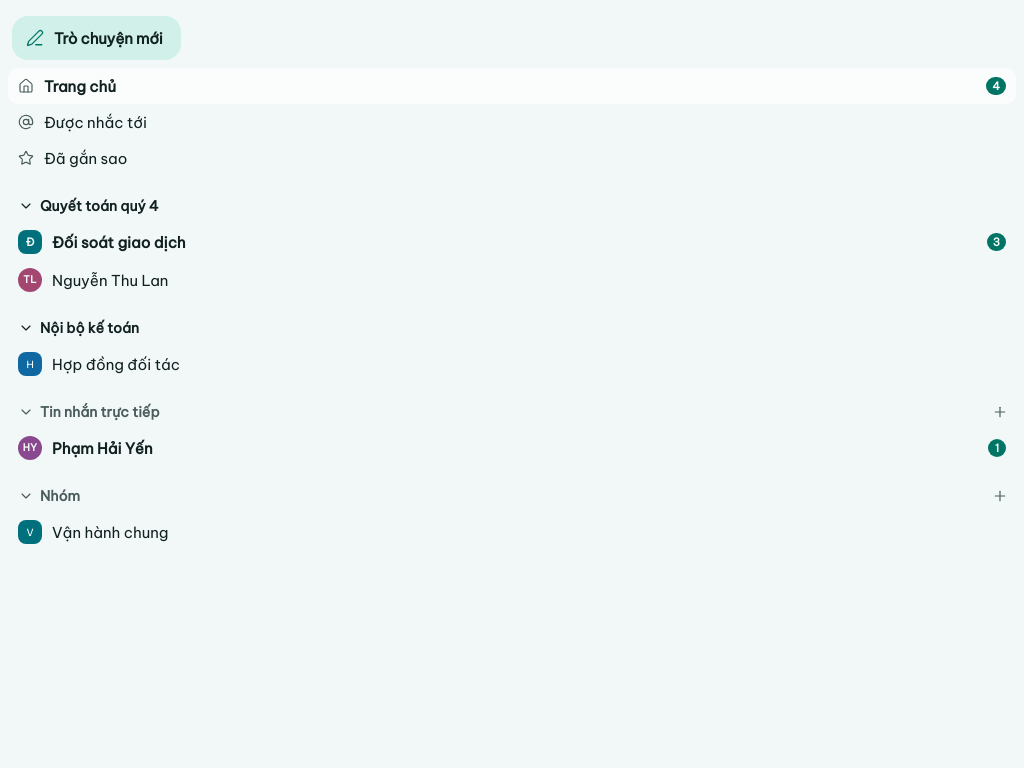
creating a section › closes on Huỷ and on Esc, giving focus back to the button that opened it
The width and height of the screenshot is (1024, 768).
Check: the list named "Quyết toán quý 4" is shown, box [8,224,1016,298]
Click the button "Trò chuyện mới": (96, 38) [12,16,181,60]
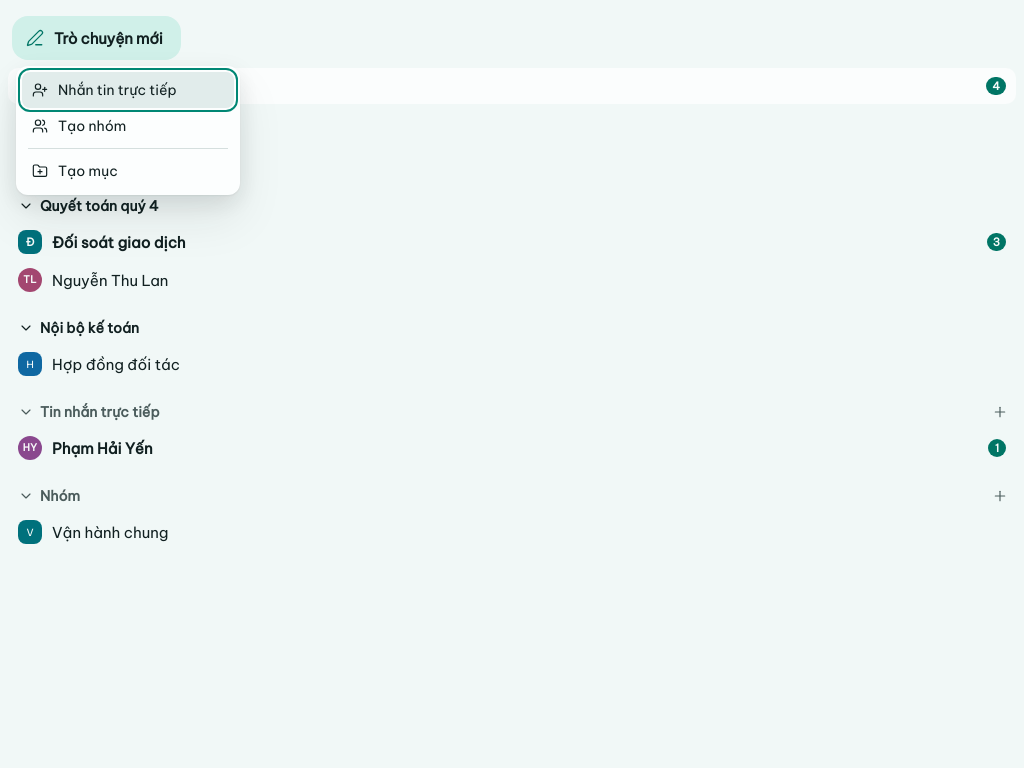
Click the menu item "Tạo mục": (128, 171) [22,153,234,189]
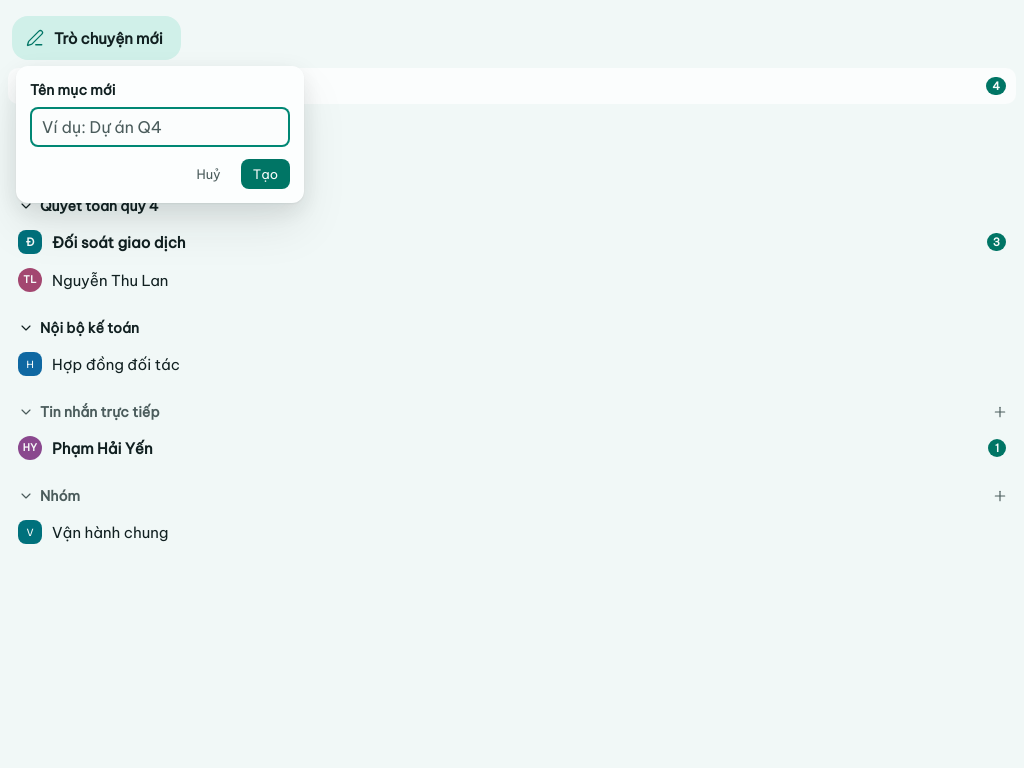
Click the button "Huỷ": (209, 174) [184,159,233,189]
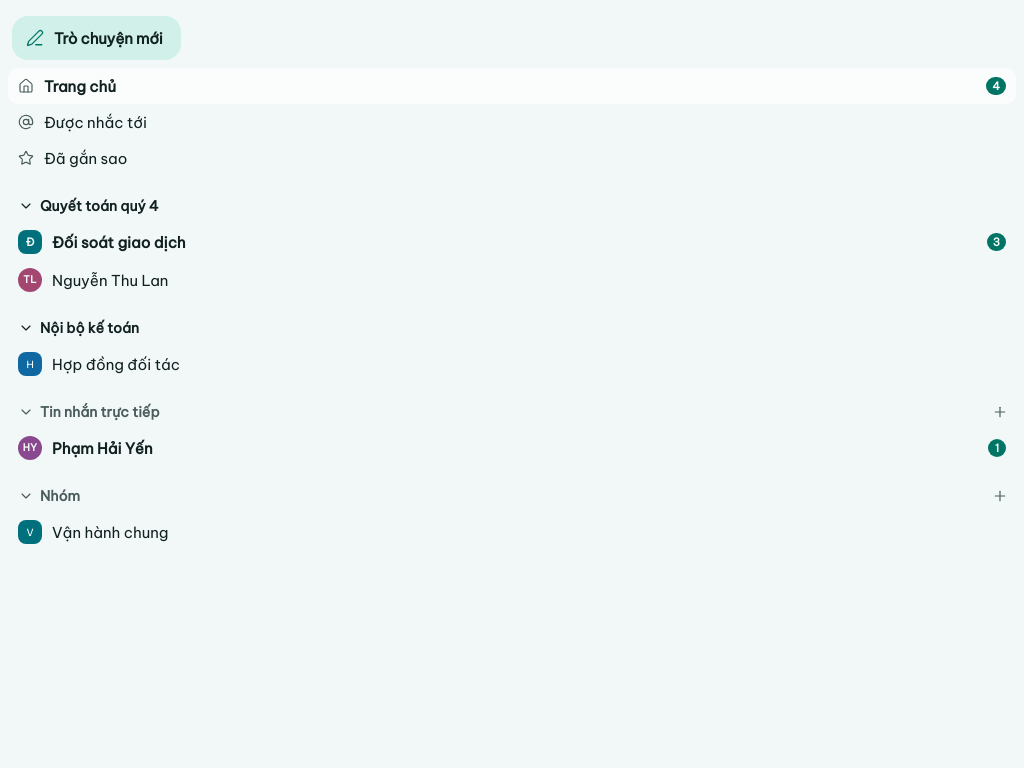
Check: the dialog is gone
Click the button "Trò chuyện mới": (96, 38) [12,16,181,60]
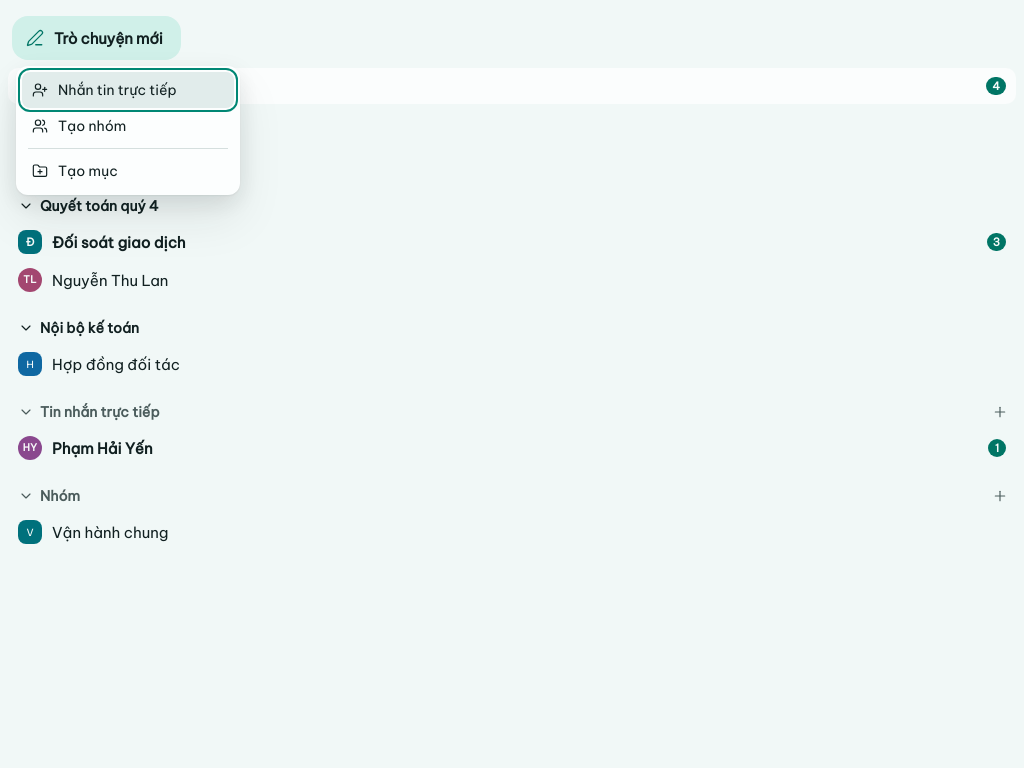
Click the menu item "Tạo mục": (128, 171) [22,153,234,189]
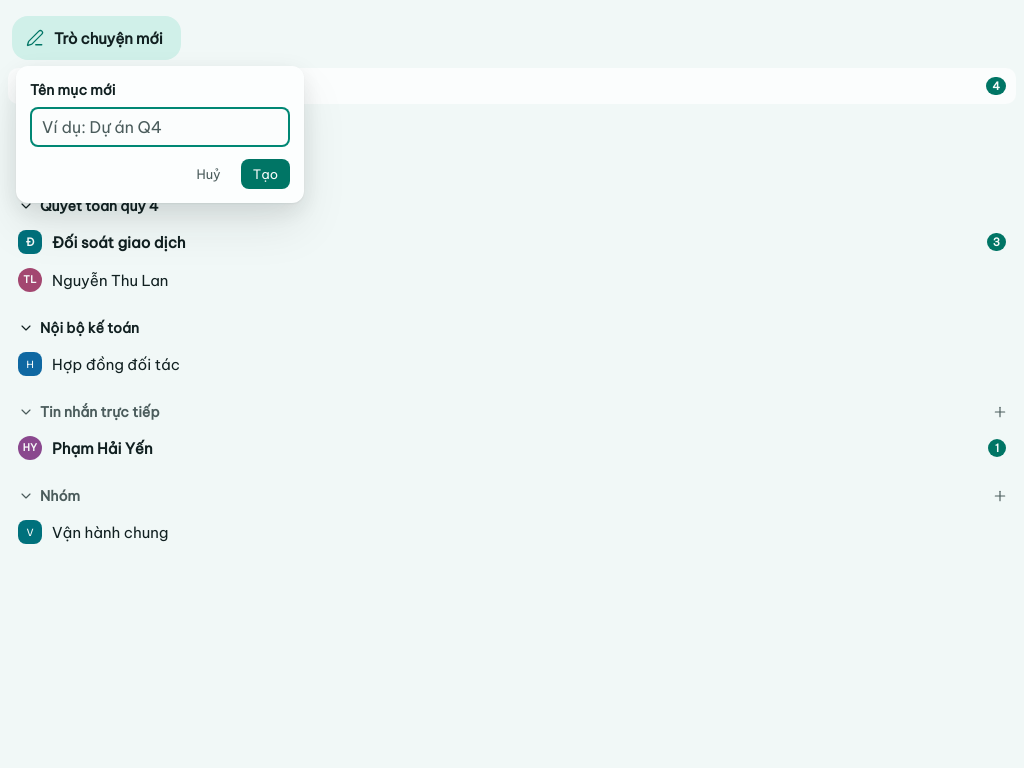
Check: the dialog "Tên mục mới" is shown, box [16,66,304,203]
Press Escape
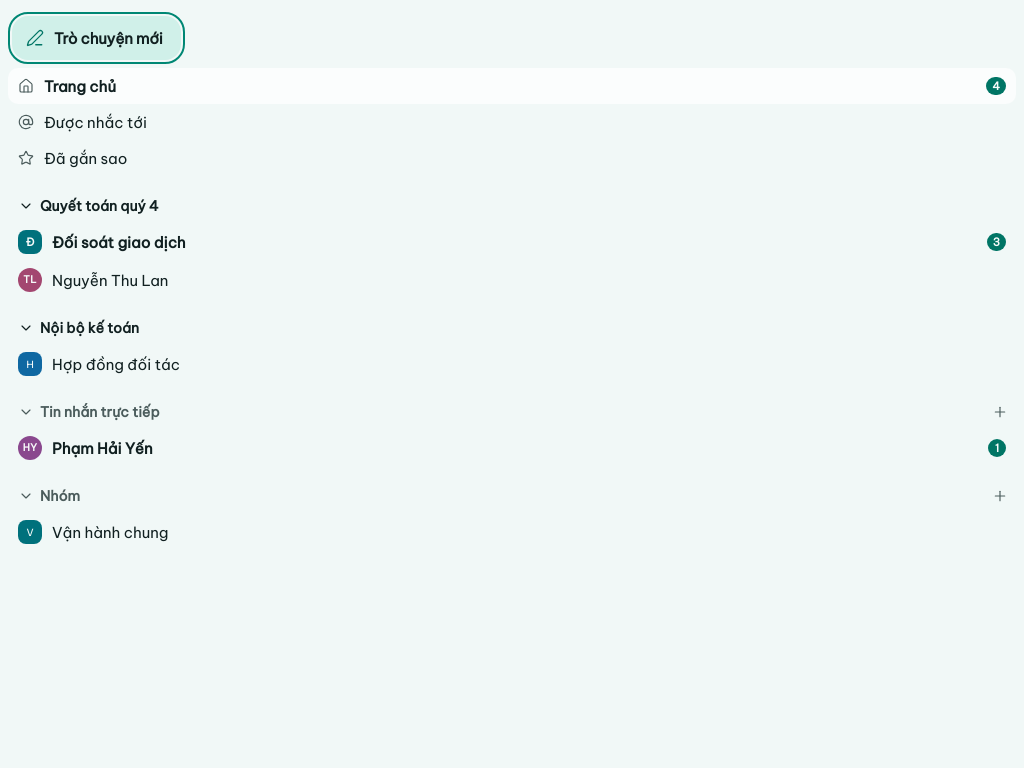
Check: the dialog is gone
